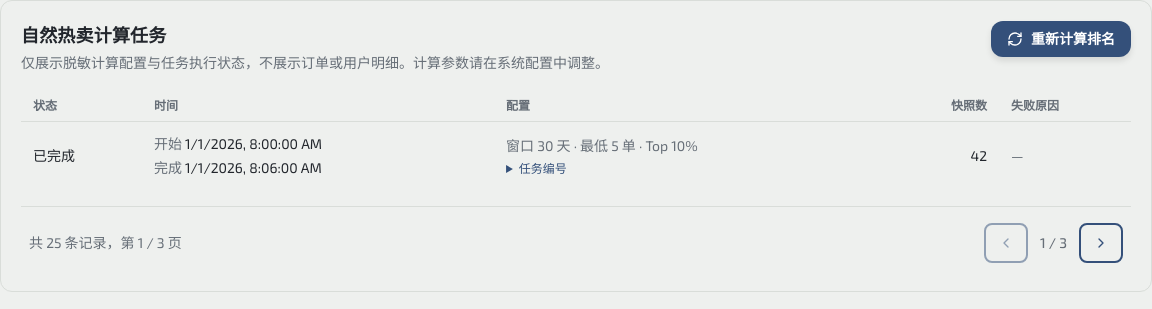
Scenario: AdminMerchandisingRunPanel › requests page 2 with the exact query when 下一页 is clicked
Expected: the table named "排名运行记录" is shown, 21,89 -> 1131,190
Click the button named "下一页" at [1101, 243], box 1079,223 -> 1123,263
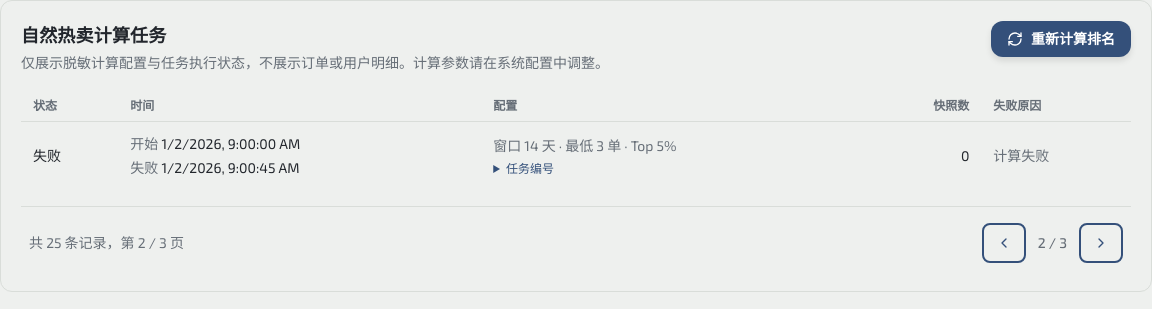
Expected: the text "计算失败" is shown, 981,122 -> 1131,190
